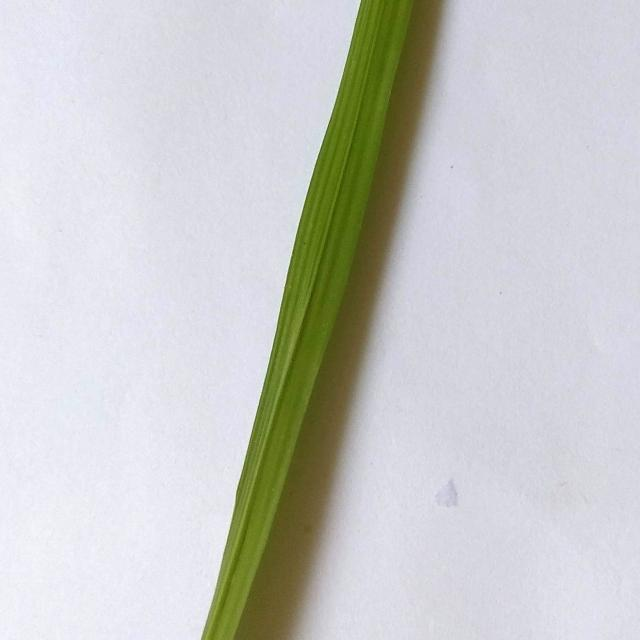Rice_Healthy: (202, 0, 413, 640)
